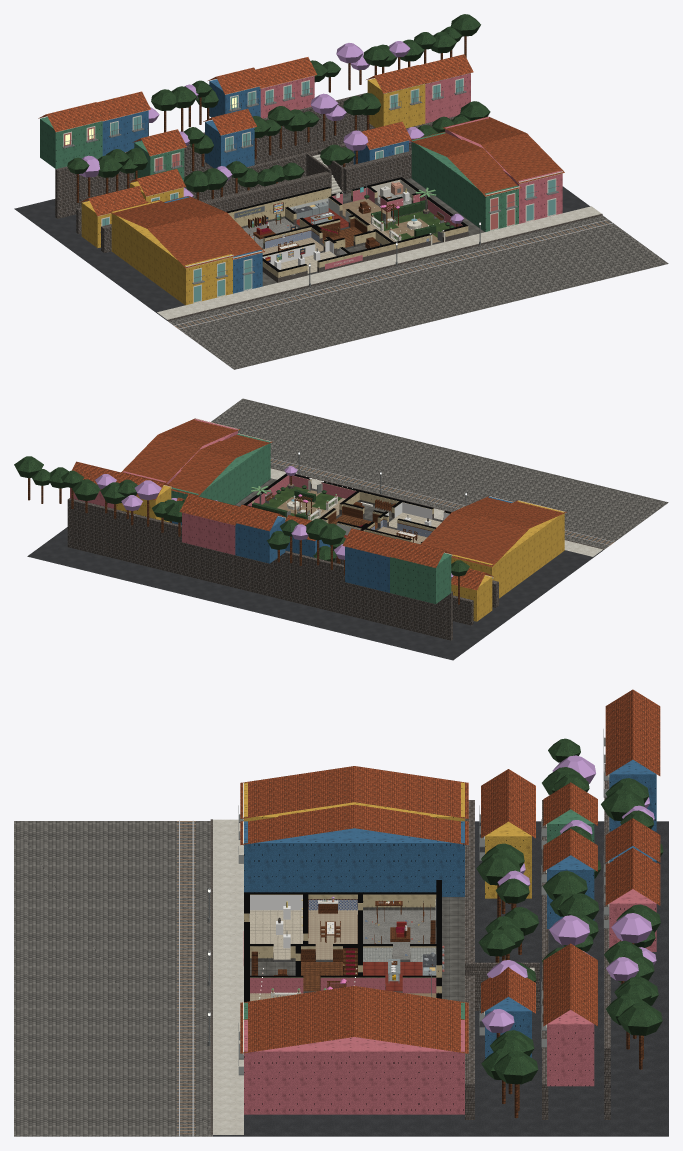
File: ateliers.glb
The picture shows the model from 3 angles, top to bottom: view 1: azimuth 30°, elevation 25°; view 2: azimuth 150°, elevation 25°; view 3: azimuth 270°, elevation 25°; orthographic projection. The views are drawn at different scales.
Parts seen in each view (by area): view 1: Lapa_paralelepipedo, Lapa_stonewall, Lapa_foliage, Lapa_side_roof, Lapa_roof, Lapa_pedra, Lapa_side_facade_yellow, Lapa_asphalt, Lapa_facade_blue, Lapa_side_facade_green, Lapa_facade_pink, Lapa_wood (+19 smaller); view 2: Lapa_paralelepipedo, Lapa_stonewall, Lapa_asphalt, Lapa_side_roof, Lapa_roof, Lapa_foliage, Lapa_facade_blue, Lapa_side_facade_yellow, Lapa_facade_pink, Lapa_side_facade_green, Lapa_facade_green, Lapa_wood (+10 smaller); view 3: Lapa_paralelepipedo, Lapa_asphalt, Lapa_side_roof, Lapa_roof, Lapa_side_facade_pink, Lapa_foliage, Lapa_side_facade_blue, Lapa_pedra, Lapa_stonewall, Lapa_facade_pink, Lapa_quaresmeira, Lapa_facade_blue (+16 smaller).
Part boxes in pixels (x1,y1,x2,y2): Lapa_paralelepipedo: (168,215,668,369); Lapa_stonewall: (55,92,602,321); Lapa_foliage: (67,14,490,236); Lapa_side_roof: (109,116,564,268); Lapa_roof: (38,54,473,216); Lapa_pedra: (157,154,601,319); Lapa_side_facade_yellow: (111,200,232,305); Lapa_asphalt: (14,178,590,320); Lapa_facade_blue: (102,79,408,168); Lapa_side_facade_green: (411,132,518,231); Lapa_facade_pink: (260,73,470,269); Lapa_wood: (76,36,466,252); Lapa_paralelepipedo: (211,398,668,550); Lapa_stonewall: (67,467,603,640); Lapa_asphalt: (27,478,602,660); Lapa_side_roof: (122,418,566,566); Lapa_roof: (72,461,493,590); Lapa_foliage: (14,456,469,576); Lapa_facade_blue: (172,516,389,592); Lapa_side_facade_yellow: (449,500,564,598); Lapa_facade_pink: (70,475,356,554); Lapa_side_facade_green: (171,433,270,505); Lapa_facade_green: (390,553,451,603); Lapa_wood: (28,476,459,604); Lapa_paralelepipedo: (14,821,212,1136); Lapa_asphalt: (213,821,668,1136); Lapa_side_roof: (240,766,468,1053); Lapa_roof: (481,689,660,1026); Lapa_side_facade_pink: (244,1020,464,1114); Lapa_foliage: (476,738,663,1084); Lapa_side_facade_blue: (244,821,464,896); Lapa_pedra: (213,819,534,1134); Lapa_stonewall: (210,764,610,1134); Lapa_facade_pink: (243,889,656,1086); Lapa_quaresmeira: (331,755,656,1033); Lapa_facade_blue: (485,760,656,1058).
Size of the model in its own units: 62.82 by 13 by 52.65.
Materials: 76 (36 with a texture image).
